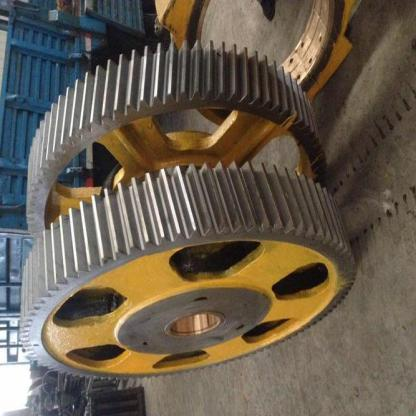FOD: (17, 155, 357, 384), (20, 34, 329, 246)
